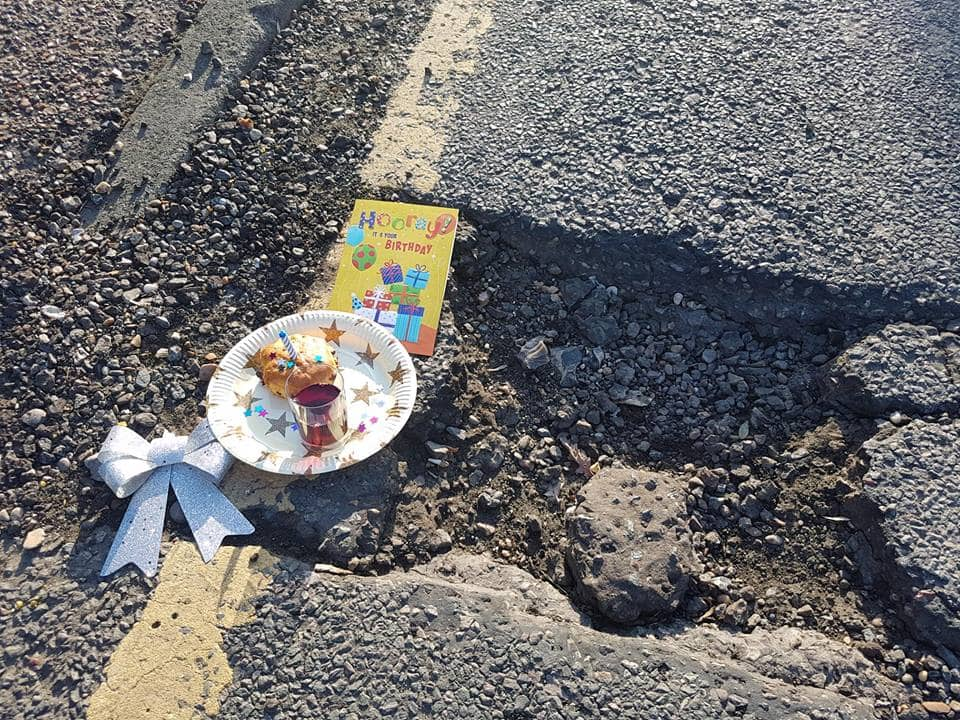pothole: (417, 239, 921, 608)
